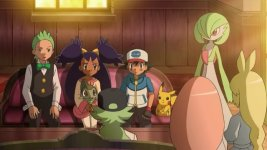gardevoir: (184, 11, 231, 77)
pikachu: (153, 81, 179, 120)
